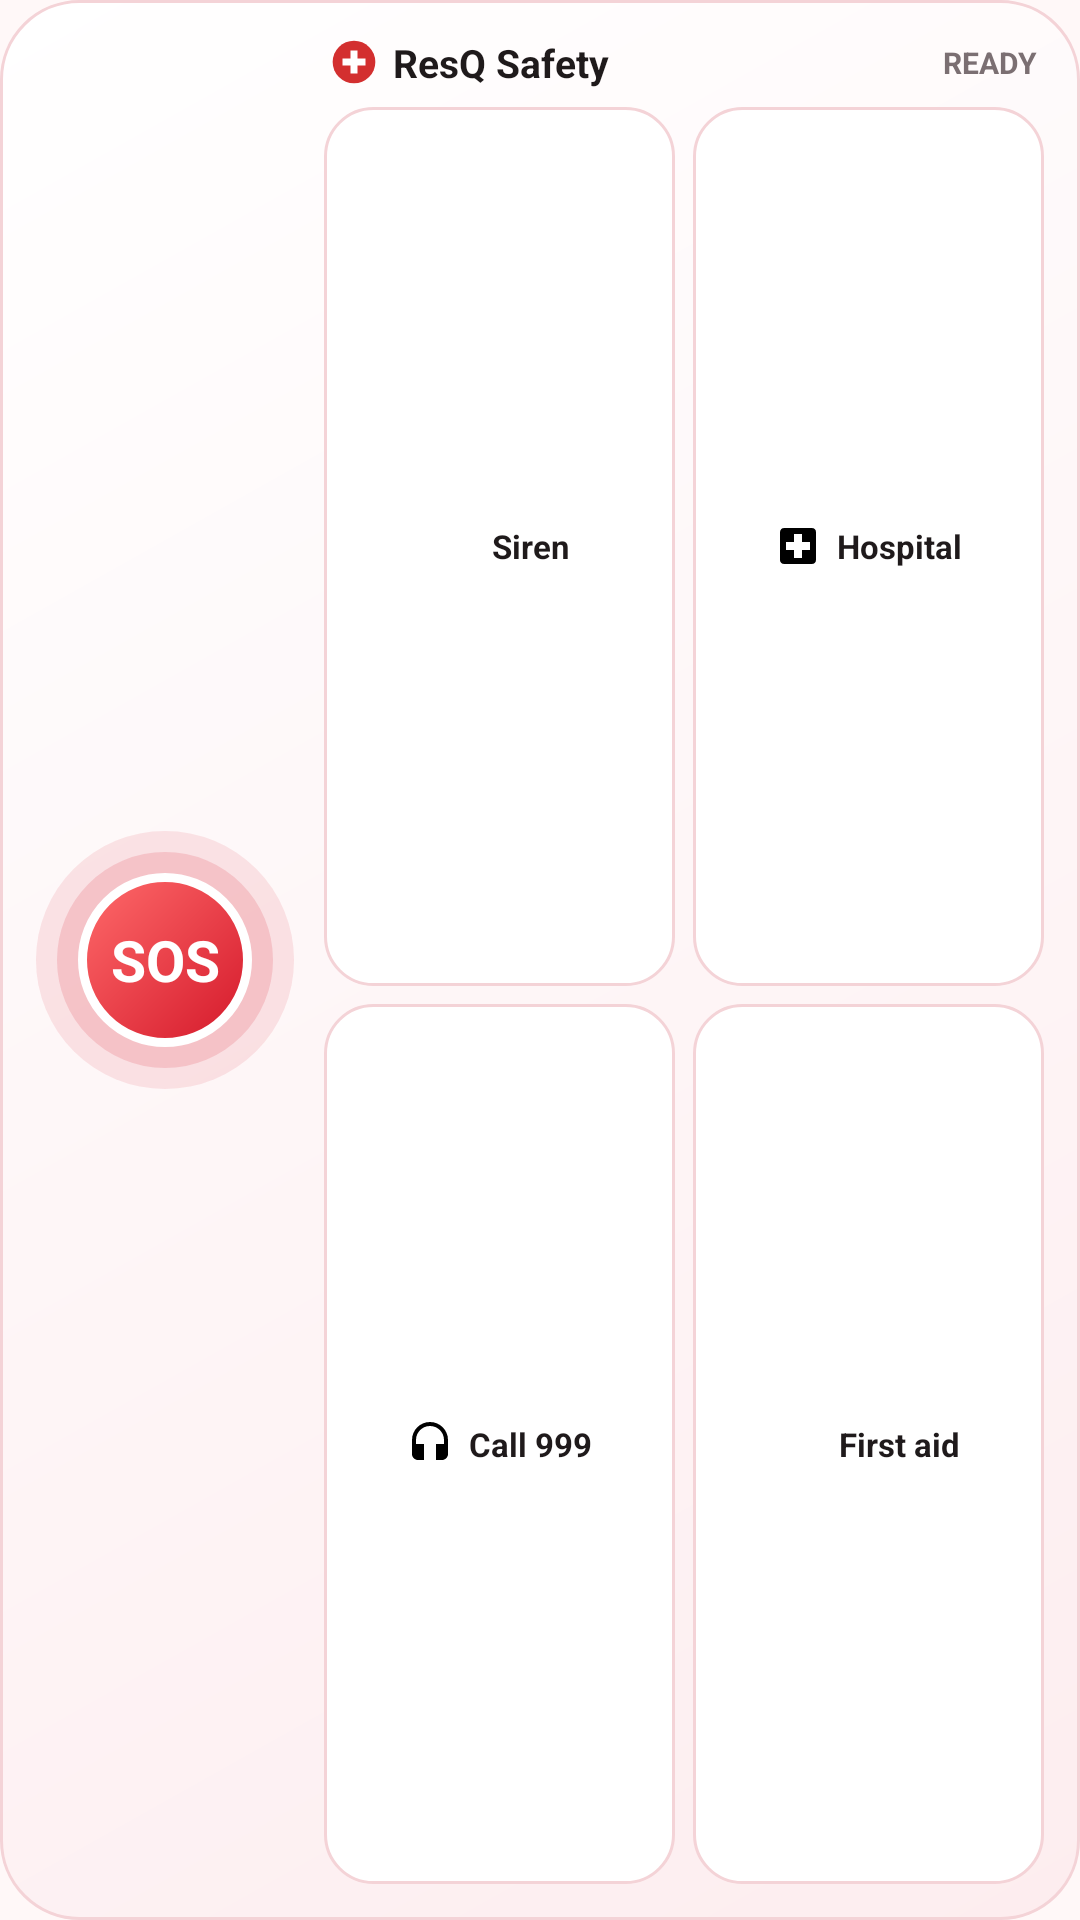

Locate icon controls on the screen. Image size 1080x1920, boxes as (x1, y1, x2, y2).
helpline: (412, 1422, 448, 1460)
